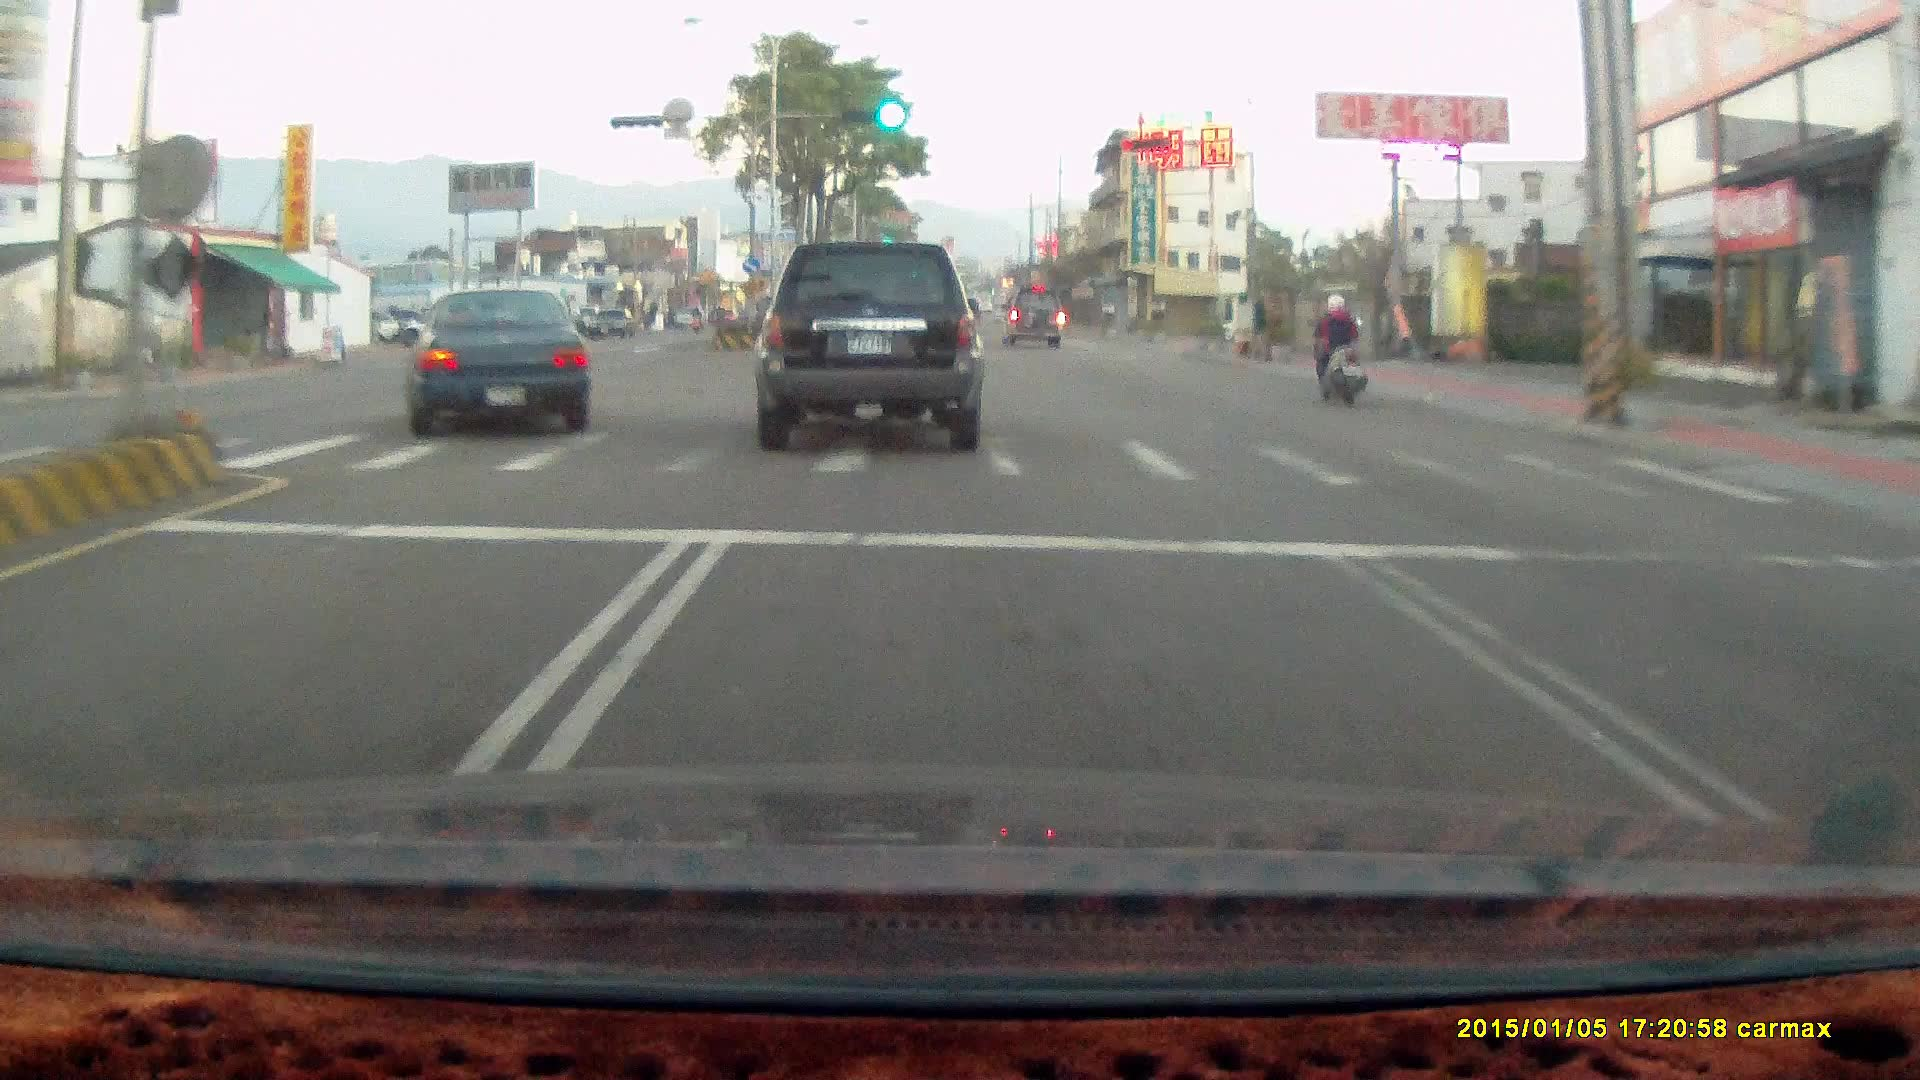rider: (1298, 284, 1378, 415), (1307, 289, 1367, 406)
vehicle: (756, 243, 987, 458), (753, 240, 984, 452), (401, 281, 590, 436), (404, 280, 589, 437), (1000, 285, 1068, 351), (998, 280, 1062, 341), (398, 313, 476, 351), (584, 305, 635, 339)
